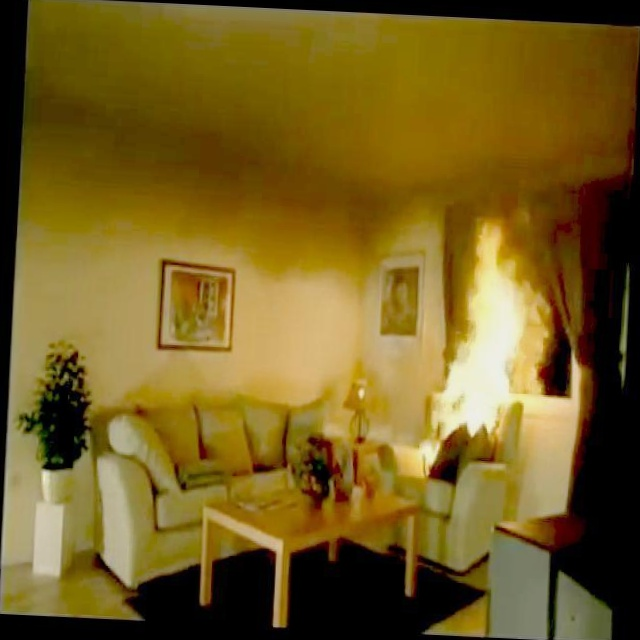fire: (417, 216, 553, 450)
